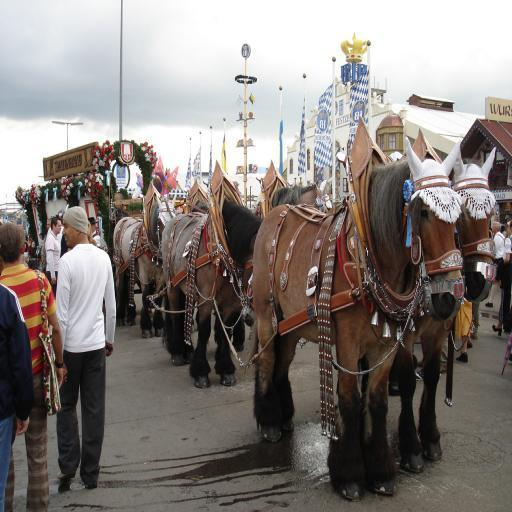horse: (110, 146, 498, 504)
